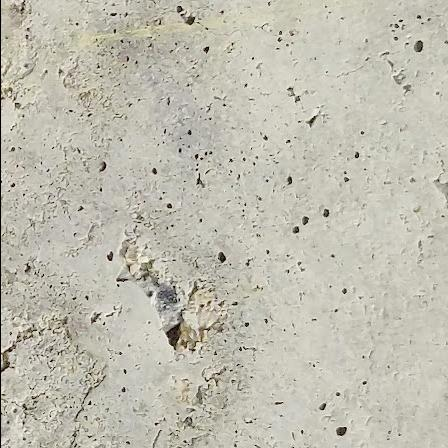crack: (144, 0, 282, 49), (318, 37, 415, 86)
hole: (412, 40, 423, 53)
spalling: (90, 204, 244, 369)
